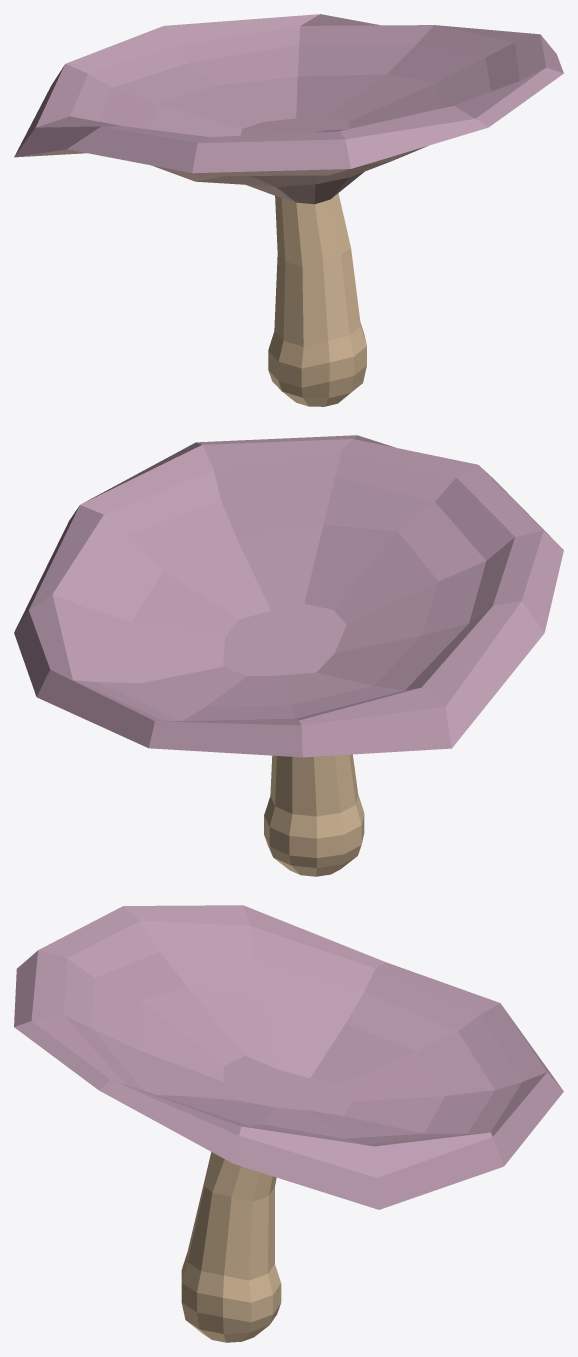
Rendered from mushroom7.fbx.
3 views of the same model, one above another, from view 1: azimuth 30°, elevation 25°; view 2: azimuth 150°, elevation 25°; view 3: azimuth 270°, elevation 25° (orthographic).
Visible parts, largest first — view 1: Cylinder; view 2: Cylinder; view 3: Cylinder.
Boxes of the visible parts, <box> form: Cylinder: <box>14,14,563,406</box>; Cylinder: <box>14,435,563,876</box>; Cylinder: <box>14,905,563,1342</box>.
Size of the model in its own units: 1338 by 911 by 1307.
